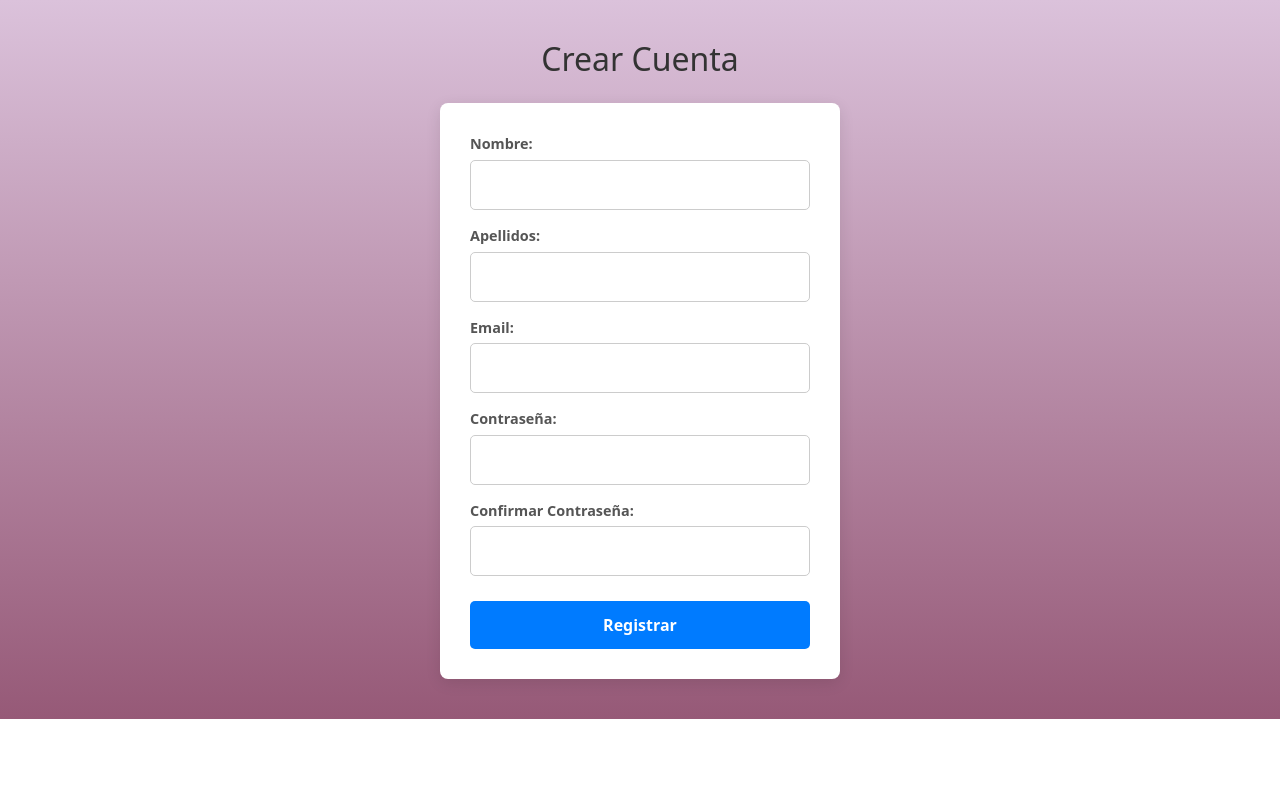
Test case: RegistroUsuario Component › debe mostrar un error si las contraseñas no coinciden
In the field with test id "nombre-input": (640,185) [470,160,810,210], type "Test"
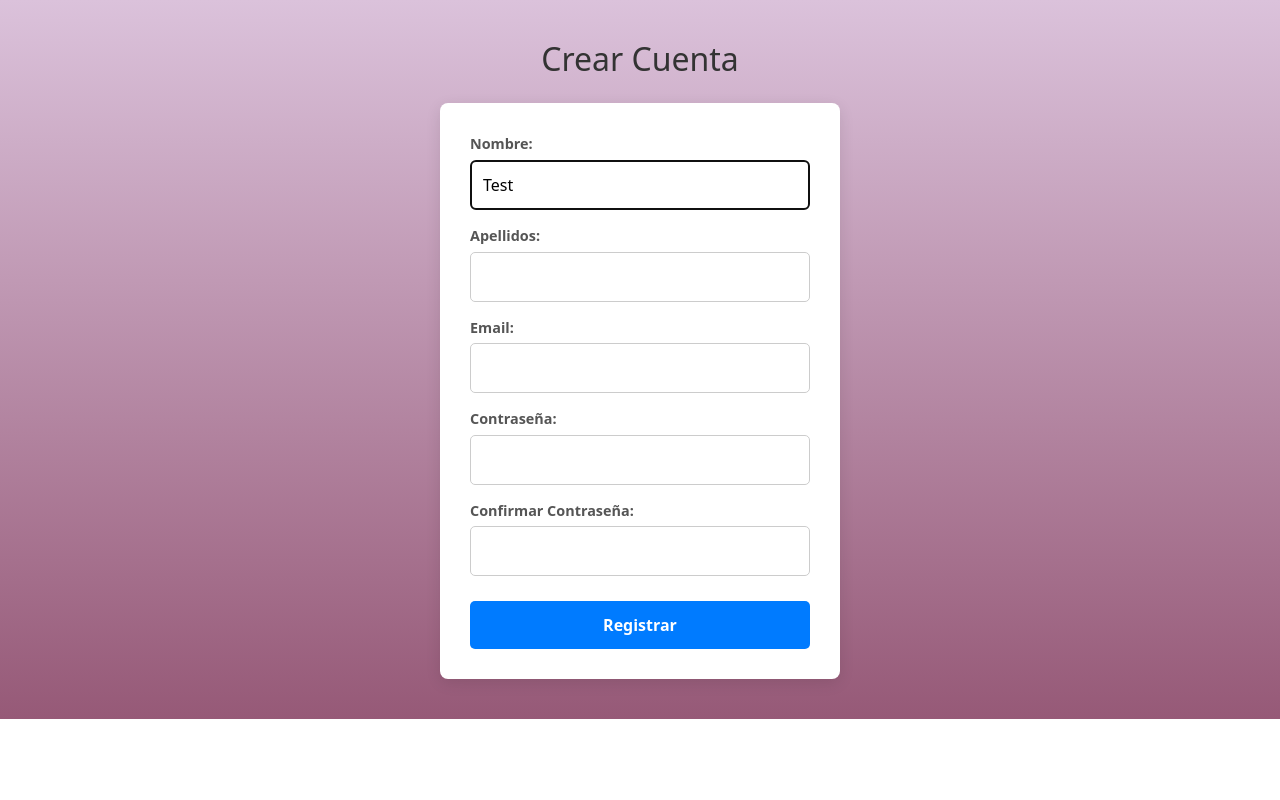
In the field with test id "apellidos-input": (640,277) [470,252,810,302], type "User"
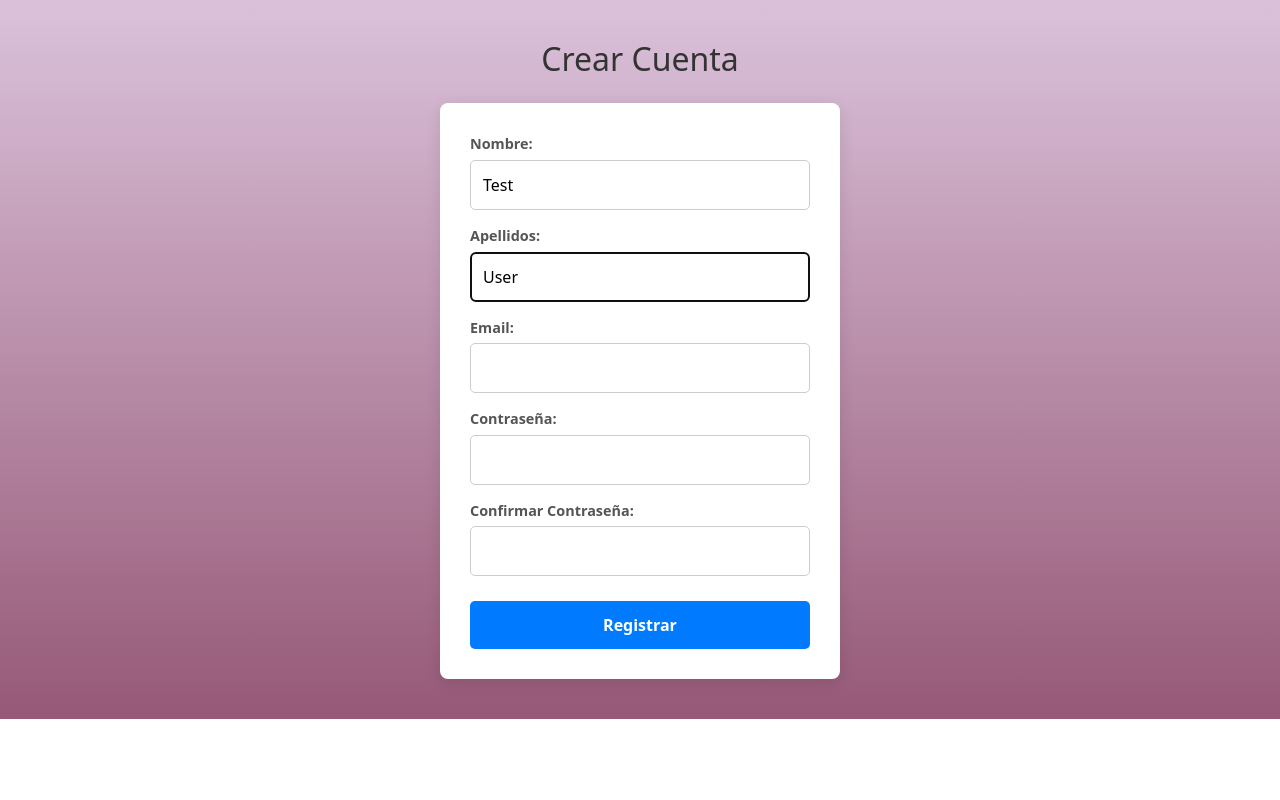
In the field with test id "email-input": (640,368) [470,343,810,393], type "test@user.com"
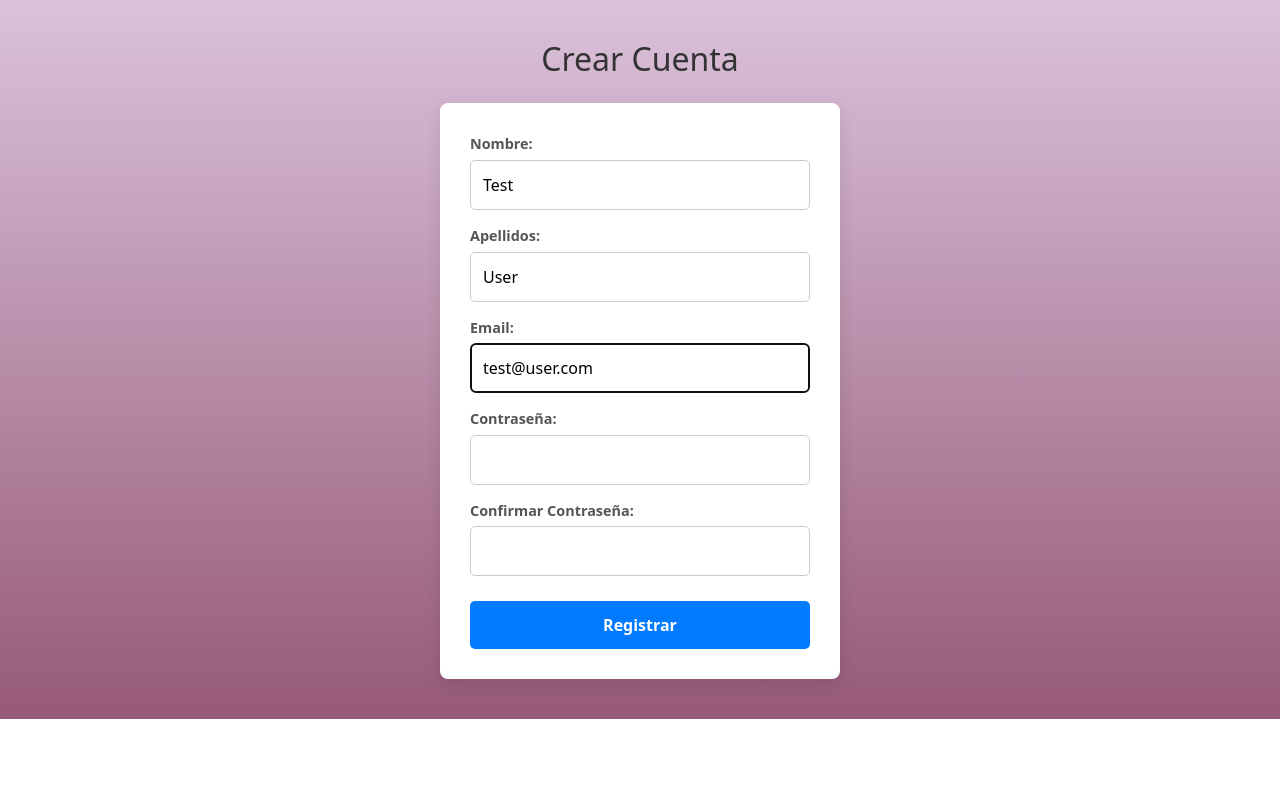
In the password field with test id "password-input": (640,460) [470,435,810,485], type "123456"
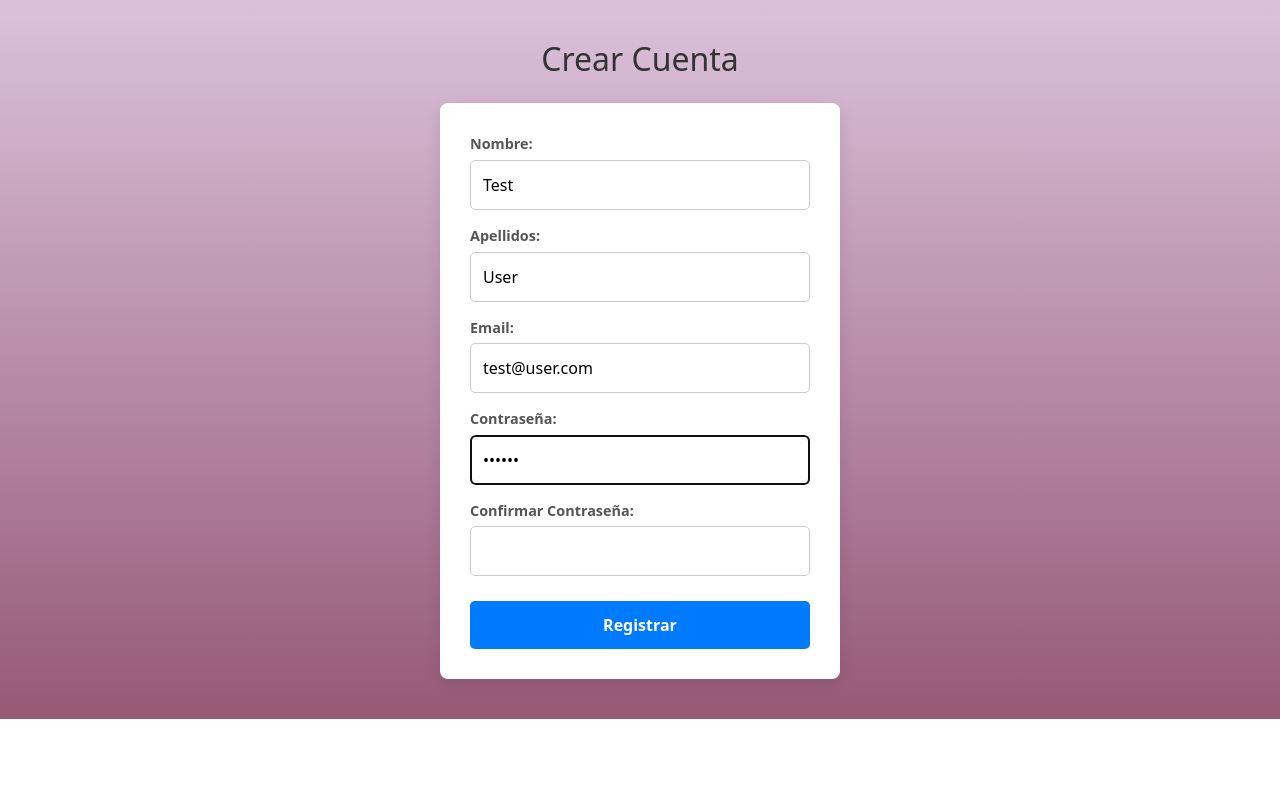
In the password field with test id "confirm-password-input": (640,551) [470,526,810,576], type "abcdef"
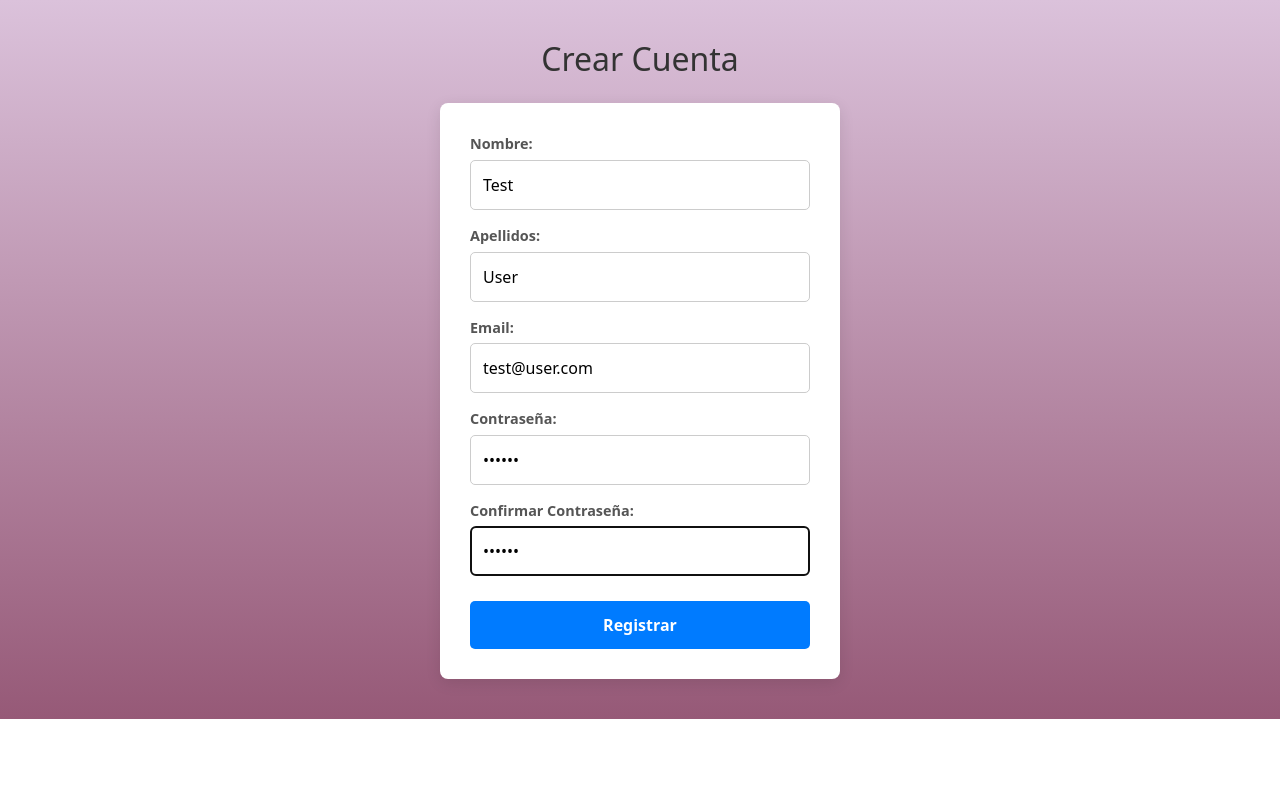
Click the button "Registrar": (640,625) [470,601,810,649]
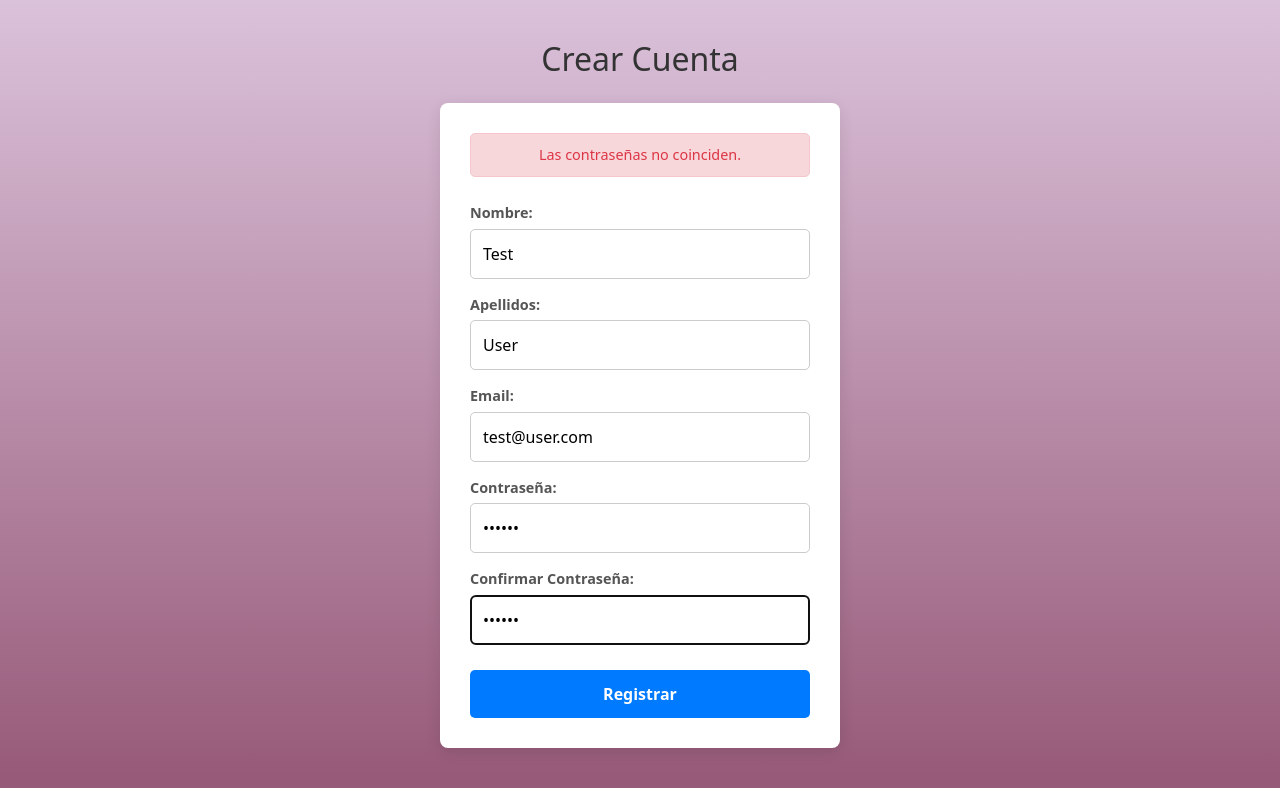
expect the text "Las contraseñas no coinciden." is shown: met, box [470,133,810,177]
